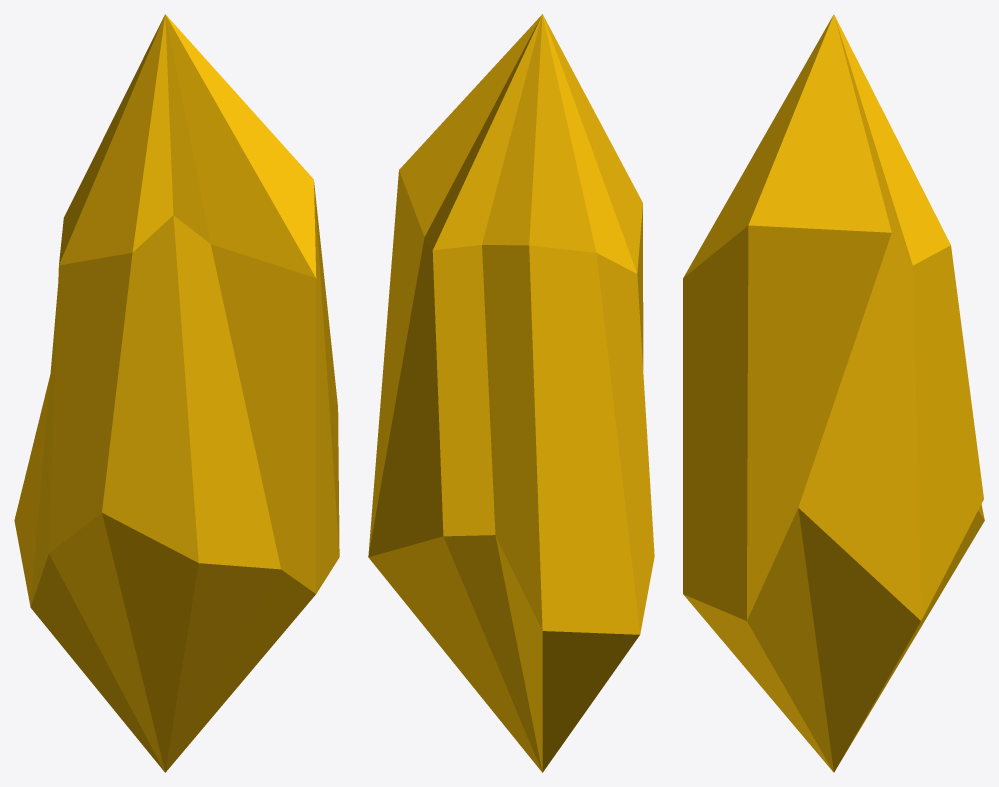
File: crystal_boss_2.obj
The picture shows the model from 3 angles, left to right: view 1: azimuth 30°, elevation 25°; view 2: azimuth 150°, elevation 25°; view 3: azimuth 270°, elevation 25°; orthographic projection.
Visible parts, largest first — view 1: Cylinder; view 2: Cylinder; view 3: Cylinder.
Part boxes in pixels (x1,y1,x2,y2): Cylinder: (14, 14, 339, 772); Cylinder: (368, 14, 654, 772); Cylinder: (683, 14, 984, 772).
Bounding box in the file's own units: 1.8 × 4.81 × 1.73.
